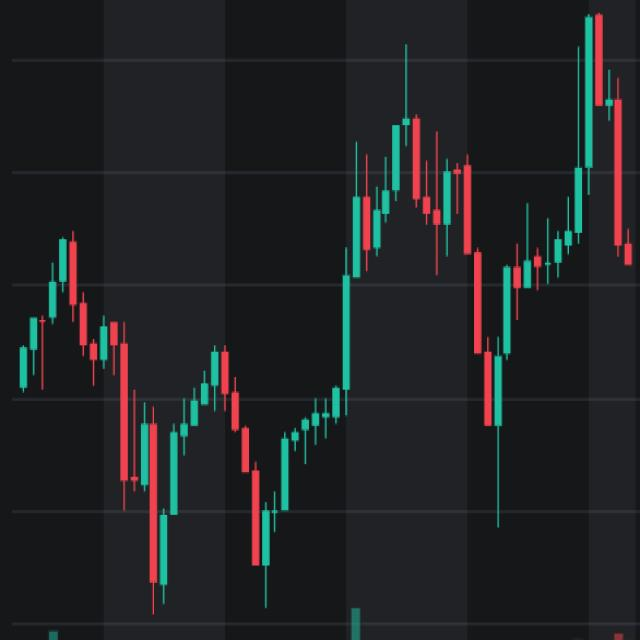Resistance-Emerging: (321, 12, 640, 281)
